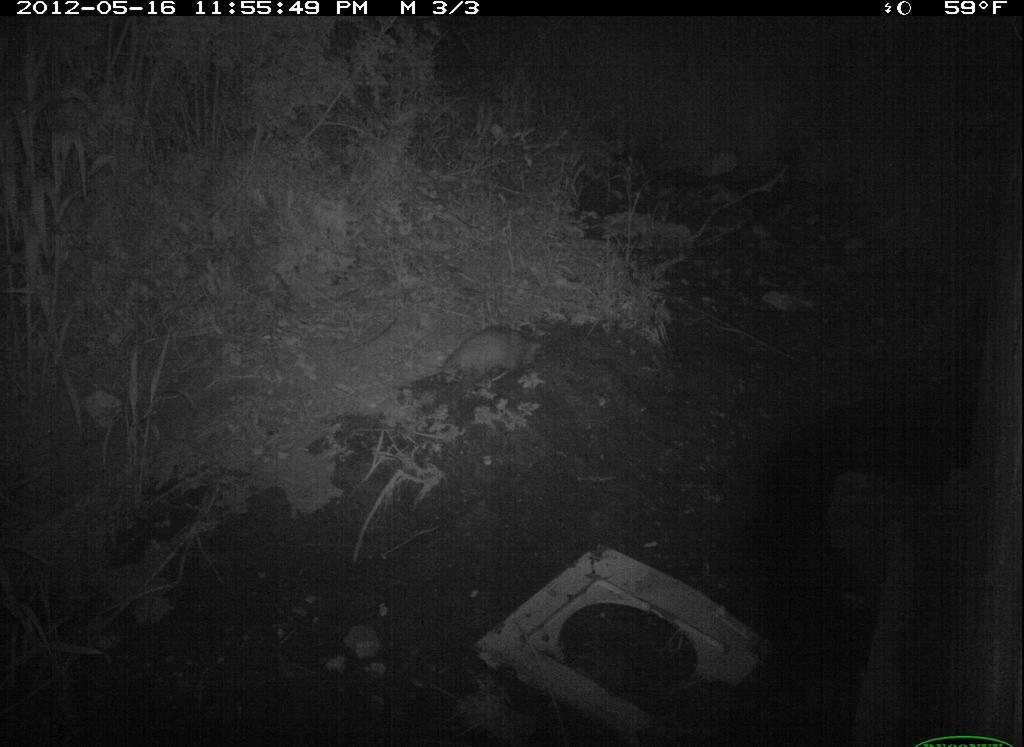opossum: (419, 318, 550, 396)
